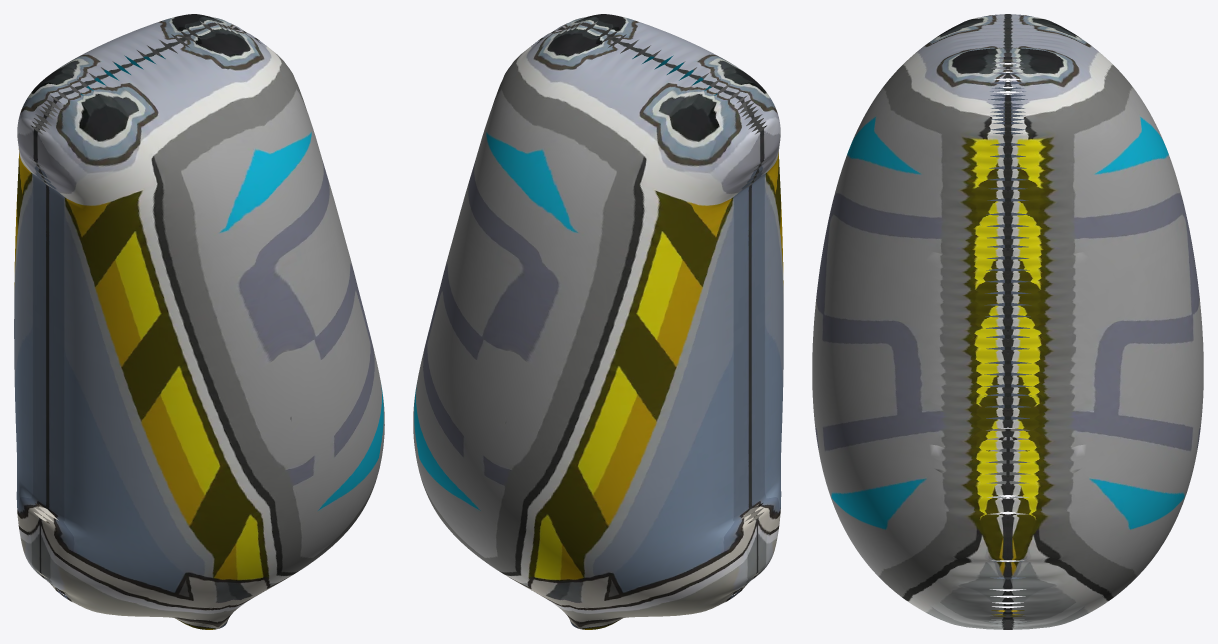
The model's file is left_machine.glb.
3 views of the same model, side by side, from view 1: azimuth 30°, elevation 25°; view 2: azimuth 150°, elevation 25°; view 3: azimuth 270°, elevation 25° (orthographic).
Visible parts, largest first — view 1: left_machine; view 2: left_machine; view 3: left_machine.
Boxes of the visible parts, bbox=[...] form: left_machine: bbox=[14, 14, 384, 629]; left_machine: bbox=[413, 14, 783, 629]; left_machine: bbox=[812, 14, 1203, 629].
Size of the model in its own units: 0.9819 by 1.63 by 1.02.
Materials: 1 (1 with a texture image).
